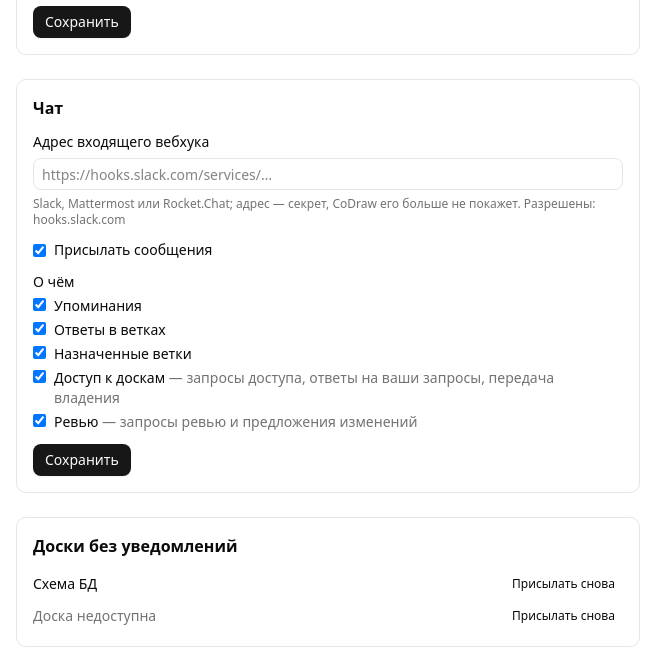
Test: NotificationSettingsPage › lists the muted boards and lets their notifications go again
The image size is (657, 664).
(page scrolled)
Expected: the text "Доска недоступна" is shown, [33,606,156,625]
Click the button with aria-label "Присылать снова: Схема БД".
click(564, 584)  # box [504,570,623,598]
(page scrolled)
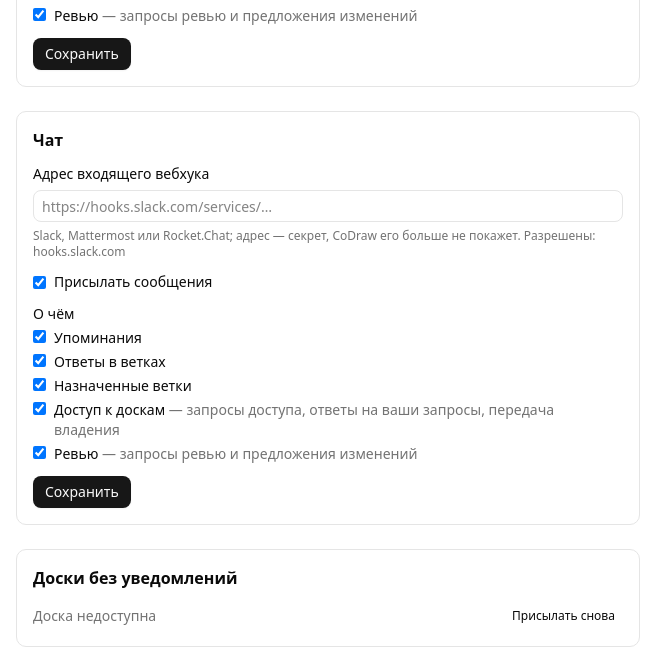
Expected: the link "Схема БД" is gone
